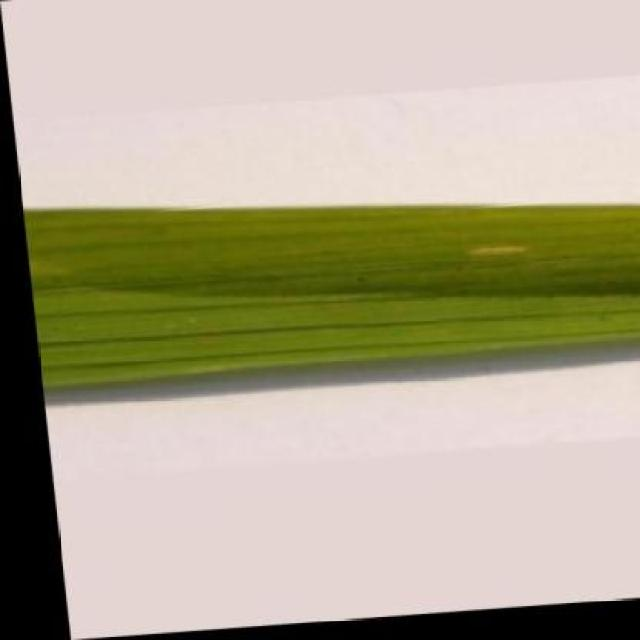Brown_Spot: (17, 165, 640, 392)
